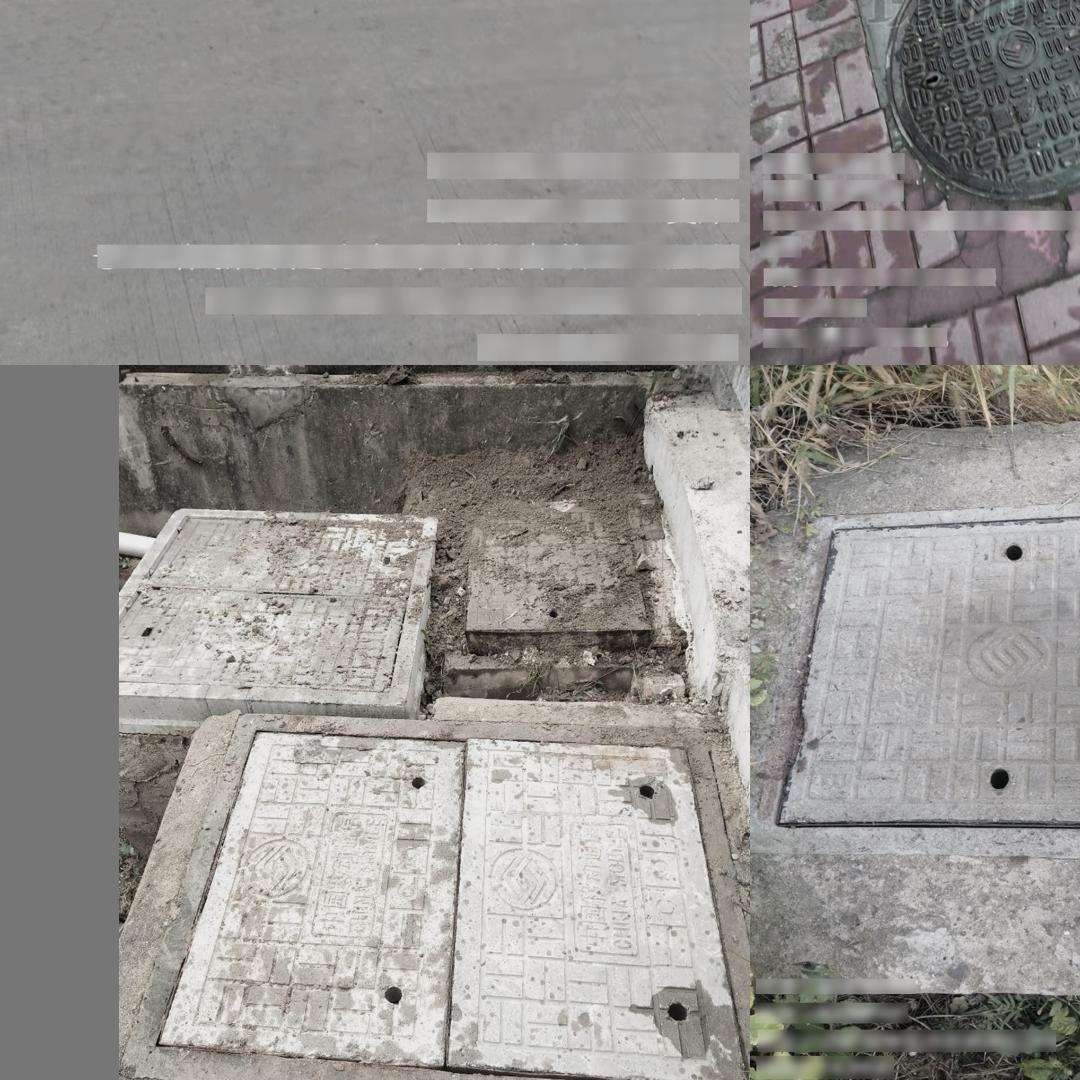good: (120, 711, 750, 1080), (753, 499, 1080, 862), (118, 507, 438, 718), (885, 0, 1080, 202)
